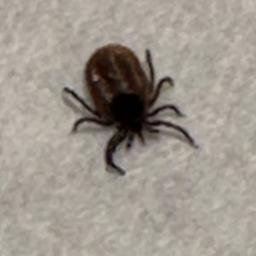Ixodes scapularis: (61, 42, 198, 176)
